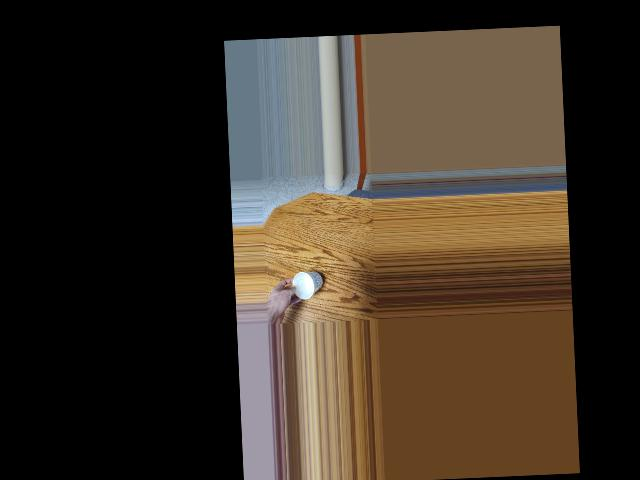cotage: (289, 272, 322, 298)
